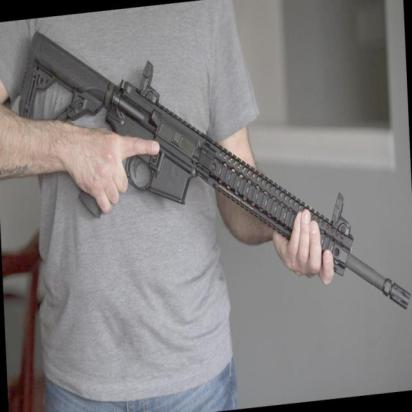Gun: (17, 31, 412, 311)
